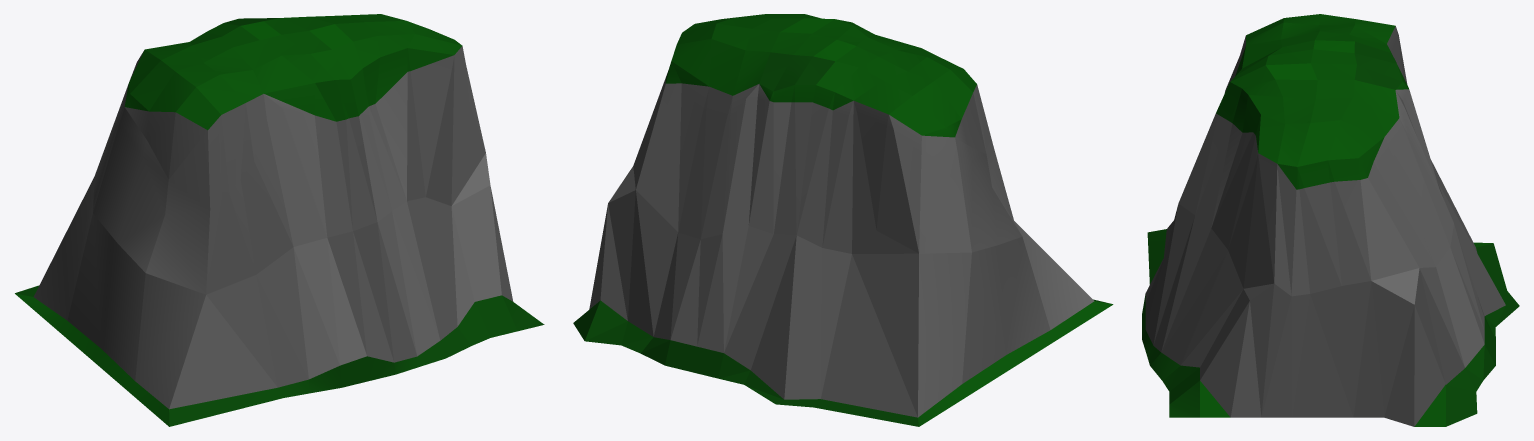
Rendered from TerrainCornerEdge01.fbx.
The picture shows the model from 3 angles, left to right: view 1: azimuth 30°, elevation 25°; view 2: azimuth 150°, elevation 25°; view 3: azimuth 270°, elevation 25°; orthographic projection.
Parts seen in each view (by area): view 1: TerrainFeature15; view 2: TerrainFeature15; view 3: TerrainFeature15.
Part boxes in pixels (x1,y1,x2,y2): TerrainFeature15: (15,14,544,426); TerrainFeature15: (573,14,1113,426); TerrainFeature15: (1142,14,1519,426).
Bounding box in the file's own units: 3.36 × 2.32 × 2.82.
